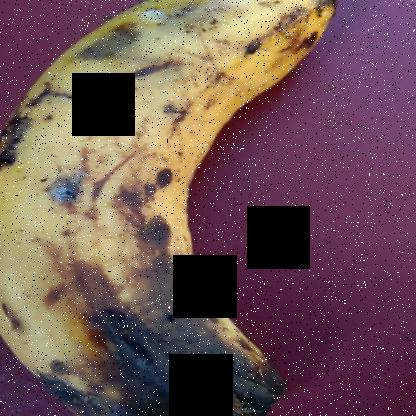rotten: (1, 5, 358, 415)
